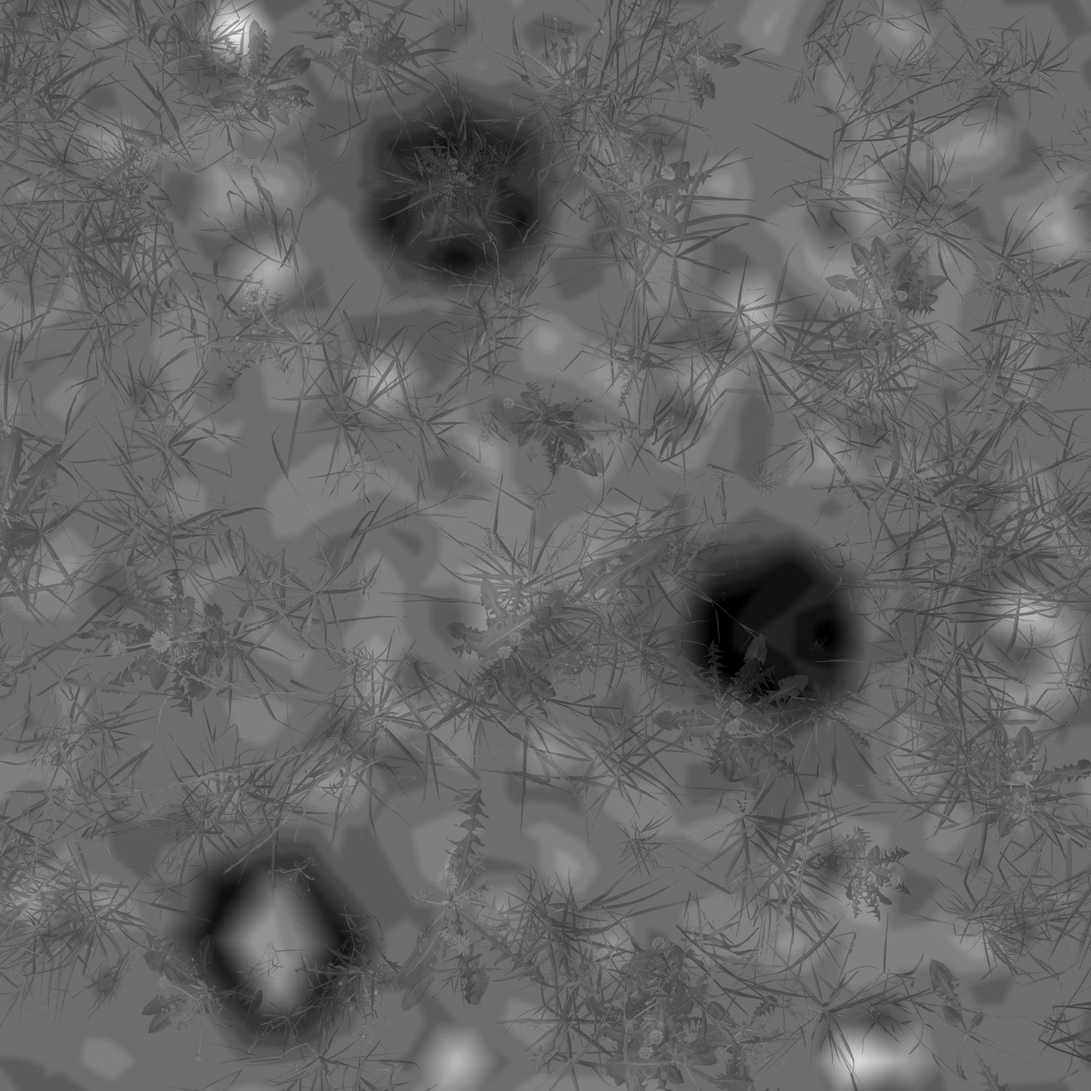landmine: (688, 548, 861, 718), (359, 110, 534, 275), (206, 868, 362, 1031)
